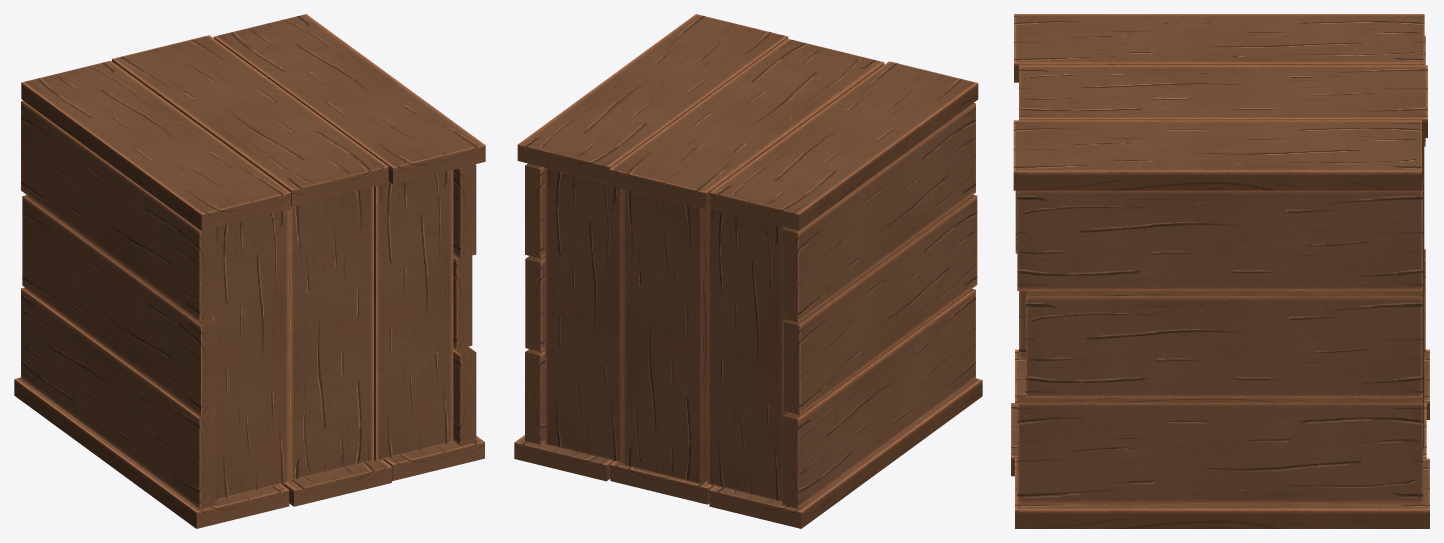
The model's file is WoodenBox_03.fbx.
The picture shows the model from 3 angles, left to right: view 1: azimuth 30°, elevation 25°; view 2: azimuth 150°, elevation 25°; view 3: azimuth 270°, elevation 25°; orthographic projection. The views are drawn at different scales.
Visible parts, largest first — view 1: polySurface17, polySurface11, polySurface27, polySurface14, polySurface26; view 2: polySurface21, polySurface11, polySurface27, polySurface14, polySurface26; view 3: polySurface26, polySurface11, polySurface14, polySurface27, polySurface21.
Part boxes in pixels (x1,y1,x2,y2): polySurface17: (211,170,453,500); polySurface11: (21,14,485,230); polySurface27: (21,100,216,508); polySurface14: (14,377,484,528); polySurface26: (453,164,476,445); polySurface21: (545,167,787,501); polySurface11: (517,14,978,230); polySurface27: (782,103,977,508); polySurface14: (514,378,982,528); polySurface26: (525,163,544,444); polySurface26: (1017,180,1422,504); polySurface11: (1013,14,1427,190); polySurface14: (1011,349,1429,528); polySurface27: (1015,35,1425,359); polySurface21: (1422,138,1424,448).
Bounding box in the file's own units: 5.06 × 5.26 × 5.59.
